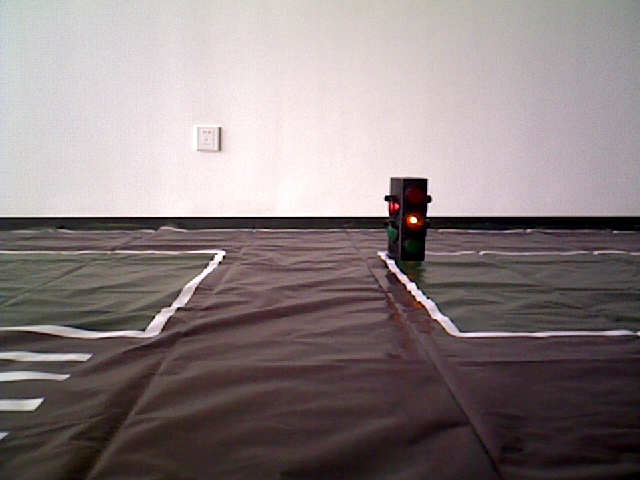yellow: (389, 174, 427, 256)
